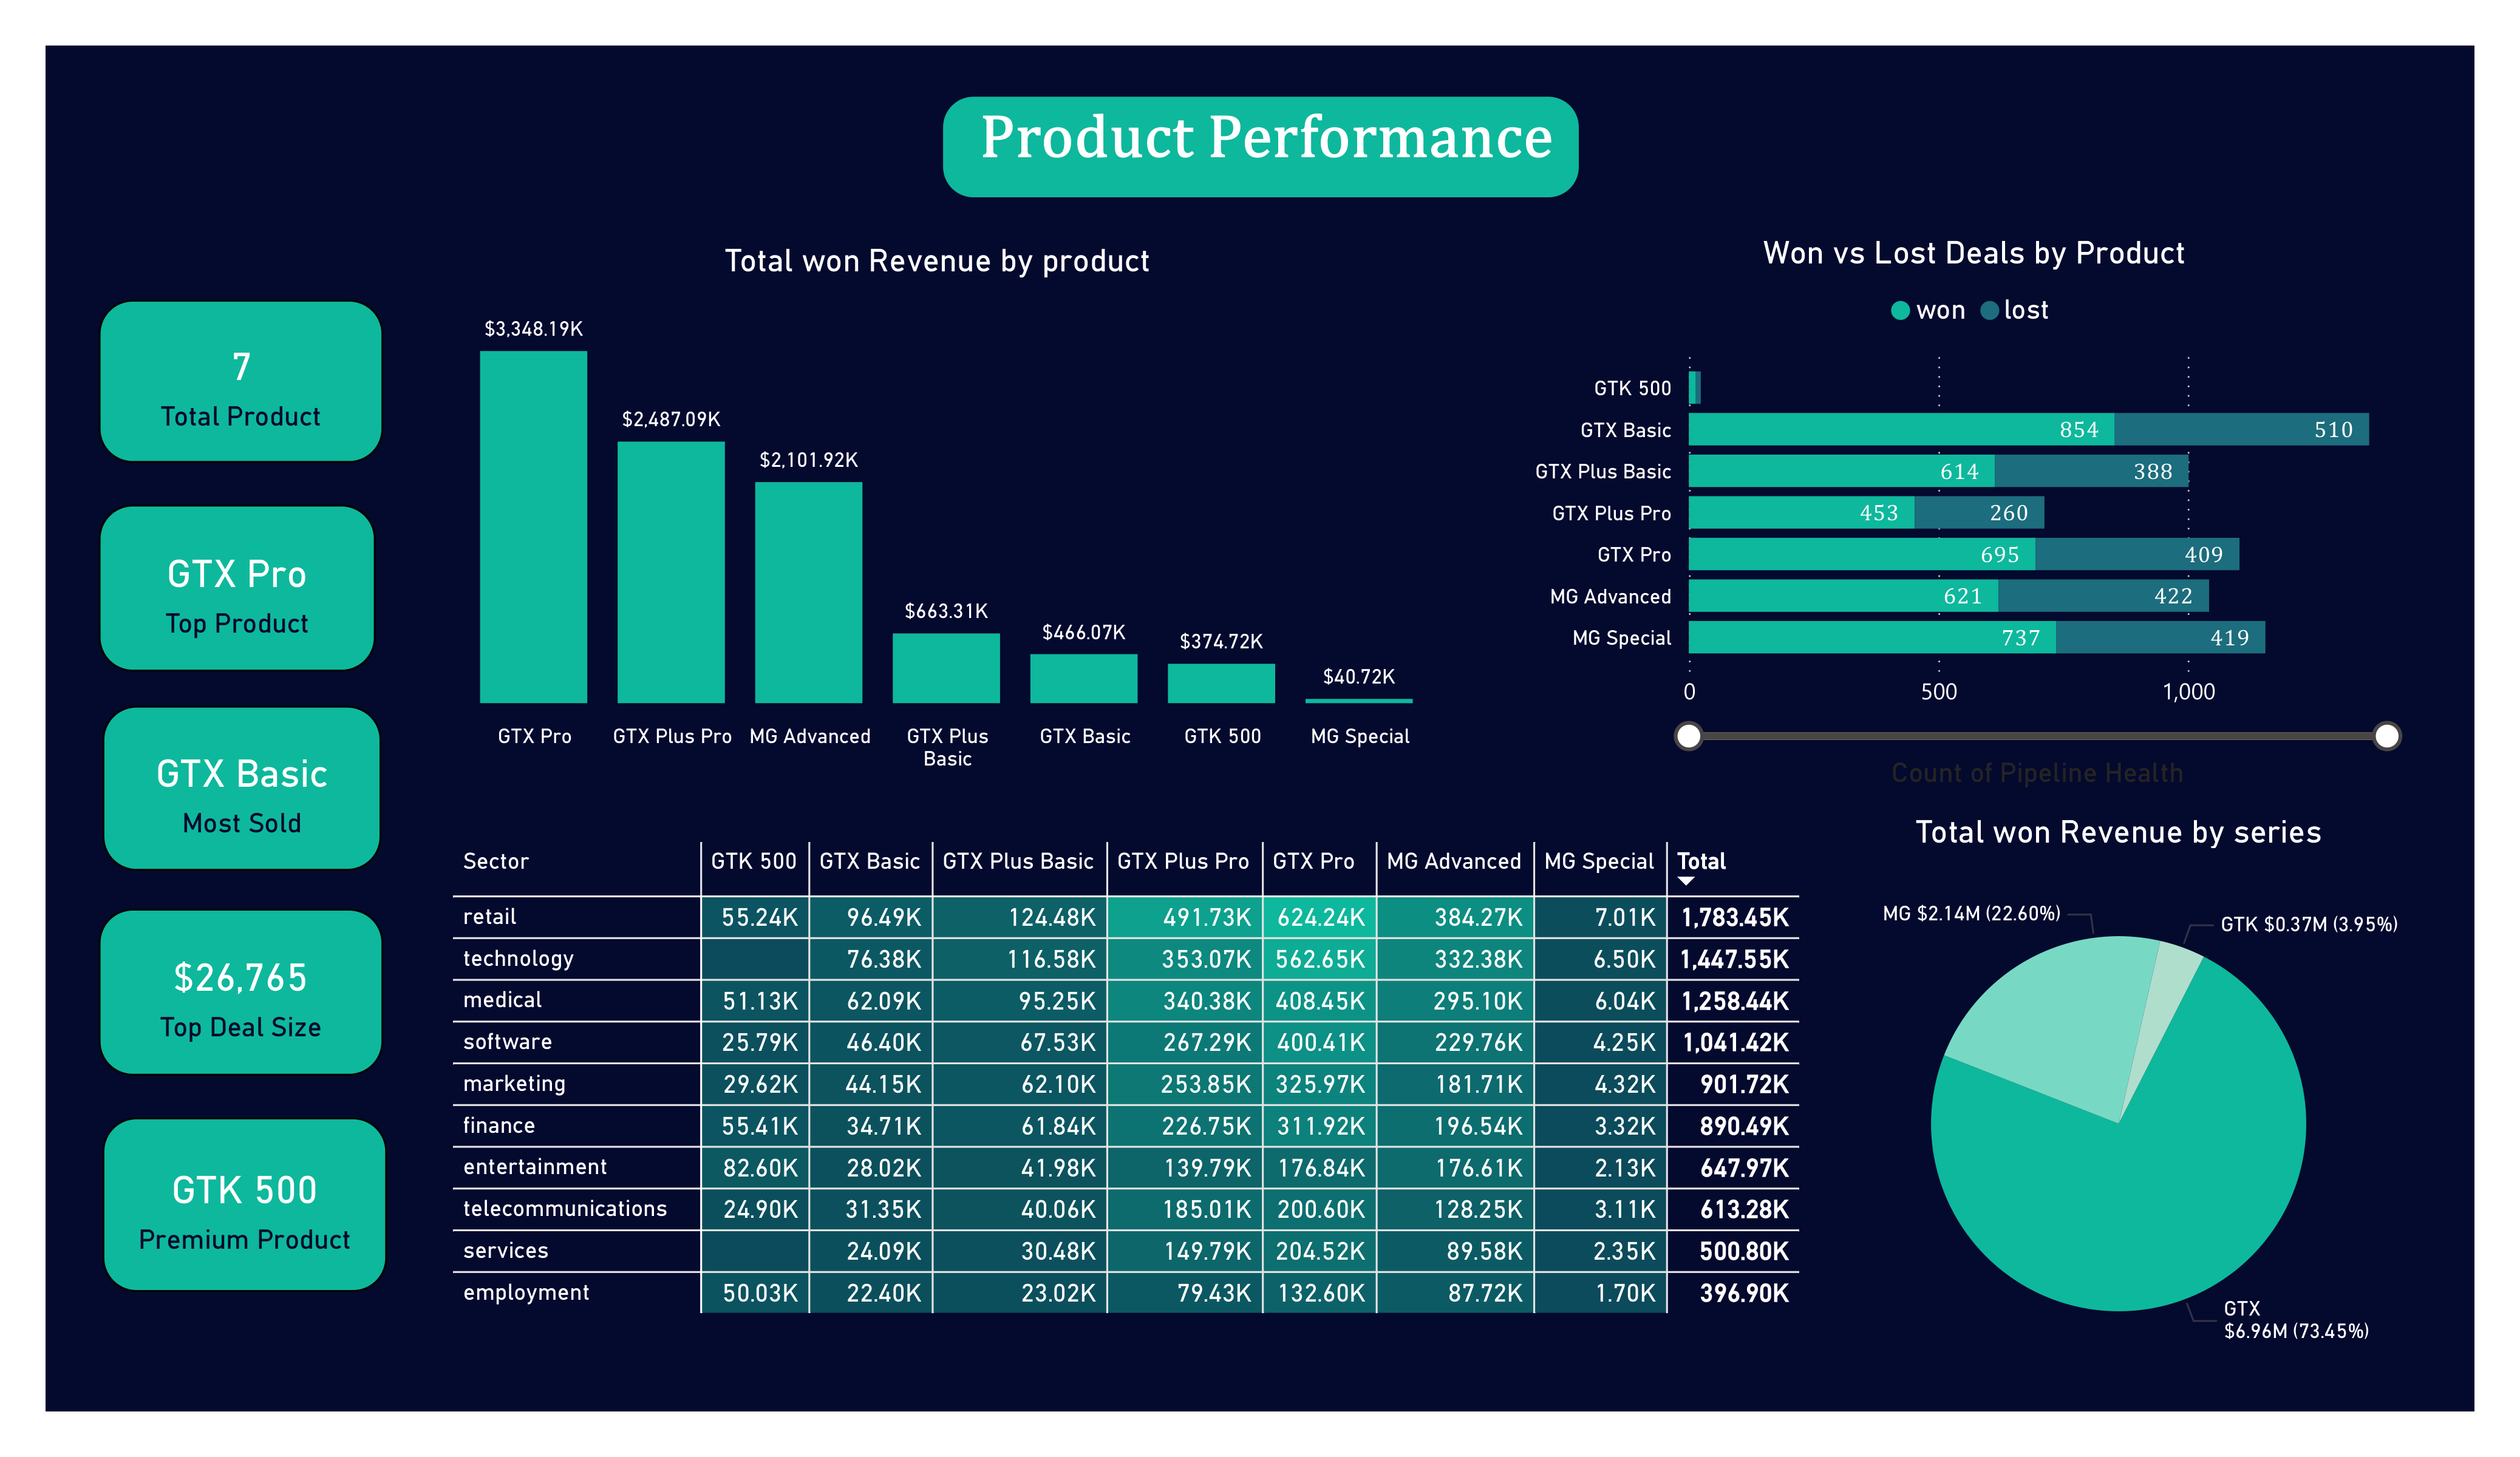

Layout of this report page (visuals, bound fields, positions):
{"tool":"powerbi","page":{"name":"Products Performance","canvas":[1280,720],"ordinal":2},"visuals":[{"type":"lineStackedColumnComboChart","fields":{"Category":["products.product"],"Y":["pipeline.Total won Revenue"]},"box":[184.3,102.9,571.4,287.1],"z":3000},{"type":"card","fields":{"Values":["Min(products.product)"]},"box":[28,242,146,88],"z":4000},{"type":"pivotTable","fields":{"Values":["pipeline.Total won Revenue"],"Columns":["products.product"],"Rows":["accounts.sector"]},"box":[210,415.1,763.5,279.9],"z":5000},{"type":"pieChart","fields":{"Category":["products.series"],"Y":["pipeline.Total won Revenue"]},"box":[927.3,404,330.8,310.2],"z":6000},{"type":"textbox","box":[472.5,26.7,335,53.3],"z":7000},{"type":"barChart","title":"Won vs Lost Deals by Product","fields":{"Category":["products.product"],"Series":["pipeline.deal_stage"],"Y":["CountNonNull(pipeline.Pipeline Health)"]},"box":[778.6,98.6,475.7,297.1],"z":8000},{"type":"card","fields":{"Values":["Min(pipeline.product)"]},"box":[30,348.3,146.7,86.7],"z":9000},{"type":"card","fields":{"Values":["pipeline.Avg Deal Size"]},"box":[28.3,455,150,88.3],"z":10000},{"type":"card","fields":{"Values":["Min(pipeline.product)"]},"box":[30,565,150,91.7],"z":11000},{"type":"card","fields":{"Values":["Count(products.product)"]},"box":[27.8,134.4,150,85.6],"z":12000}]}

Visuals, with their boxes on the page's 1280x720 design canvas (x1, y1, x2, y2). These are canvas units, not pixel positions in the 2520x1457 screenshot, which may show the page scaled, cropped or inside an application window:
lineStackedColumnComboChart - products.product x pipeline.Total won Revenue: 184:103:756:390
card - Min(products.product): 28:242:174:330
pivotTable - pipeline.Total won Revenue x products.product: 210:415:974:695
pieChart - products.series x pipeline.Total won Revenue: 927:404:1258:714
textbox: 472:27:808:80
"Won vs Lost Deals by Product" barChart: 779:99:1254:396
card - Min(pipeline.product): 30:348:177:435
card - pipeline.Avg Deal Size: 28:455:178:543
card - Min(pipeline.product): 30:565:180:657
card - Count(products.product): 28:134:178:220
